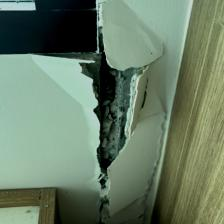High: (39, 1, 165, 222)
